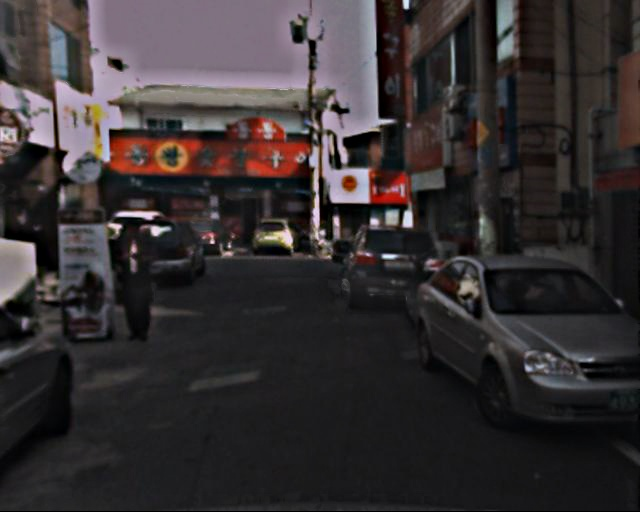person: (110, 220, 167, 344)
